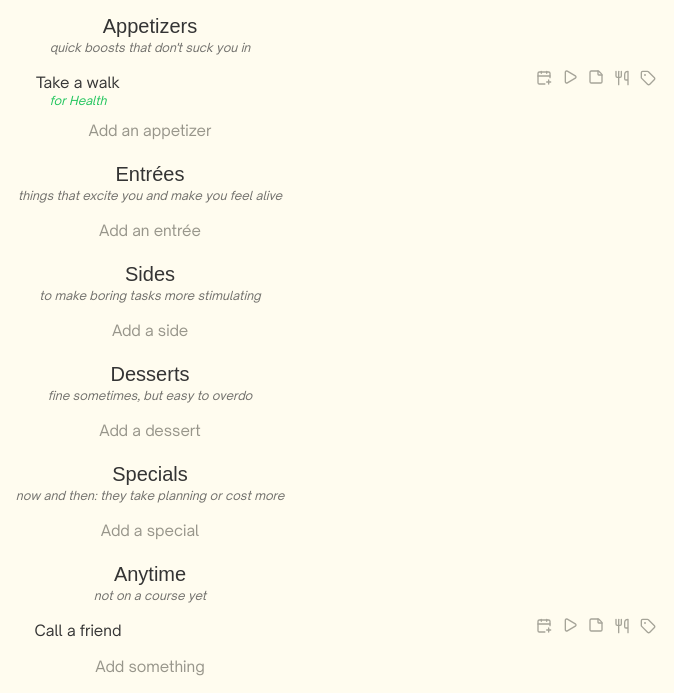
Test: DopamineMenuList › starts an item now with one click
Step 1. Click the 1st button named "Start now (adds a 1-hour event)" → point(570, 77), box x1=558 y1=65 x2=582 y2=89
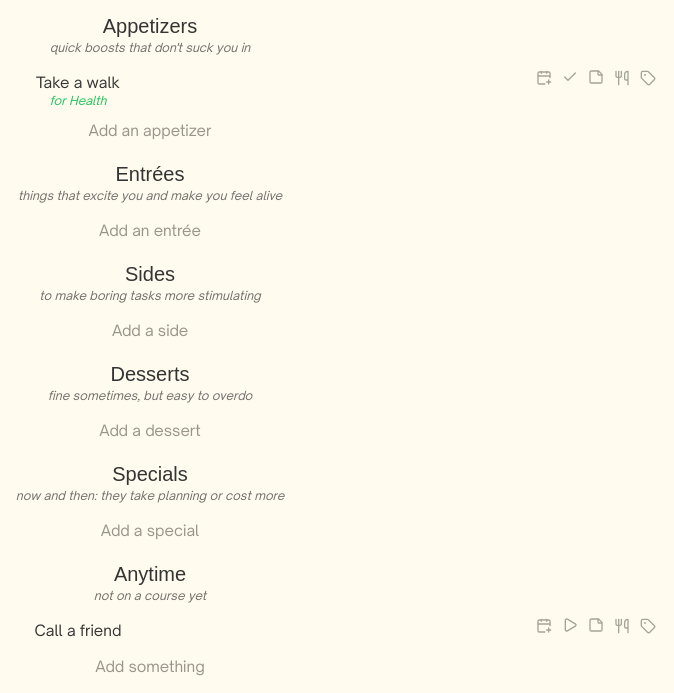
Check: the message named "Added to your calendar" is shown, box x1=562 y1=69 x2=578 y2=85
